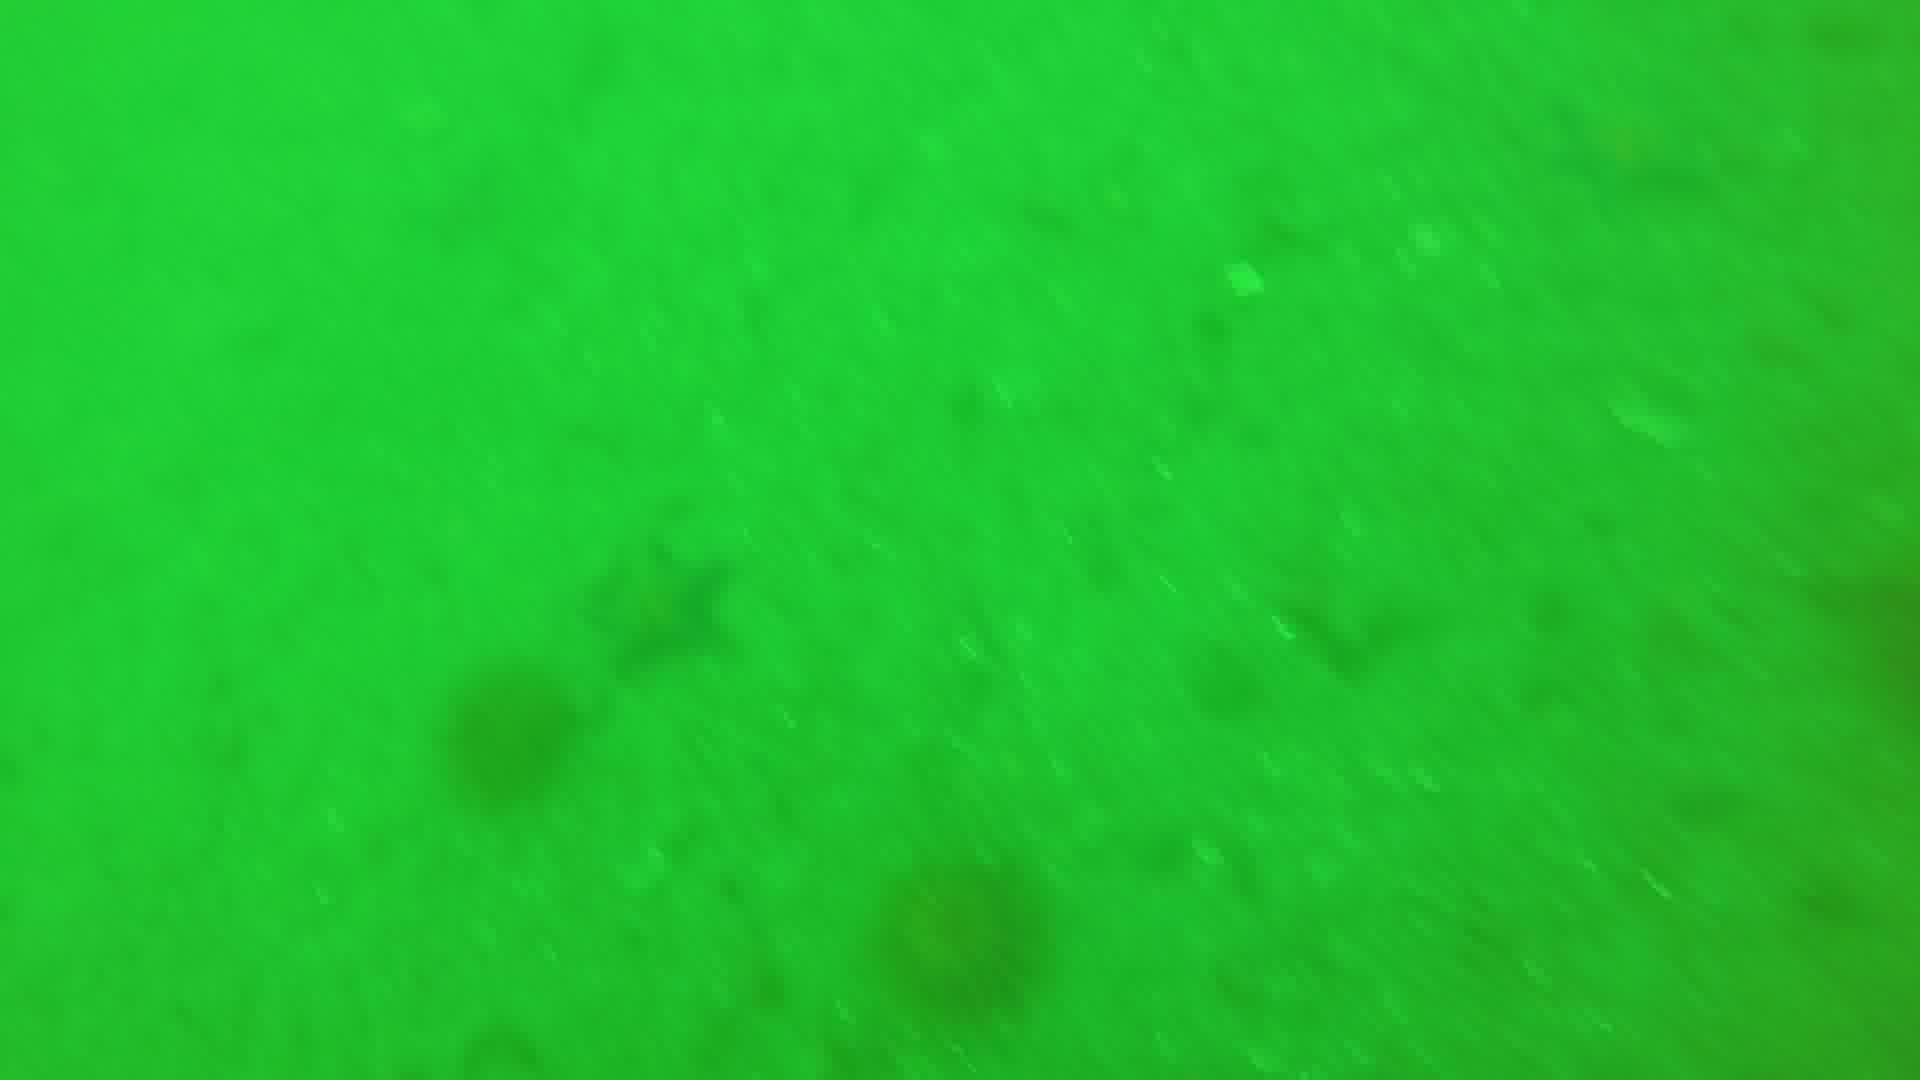echinus: (860, 849, 1051, 1029), (439, 659, 578, 814)
starfish: (578, 535, 731, 673)
